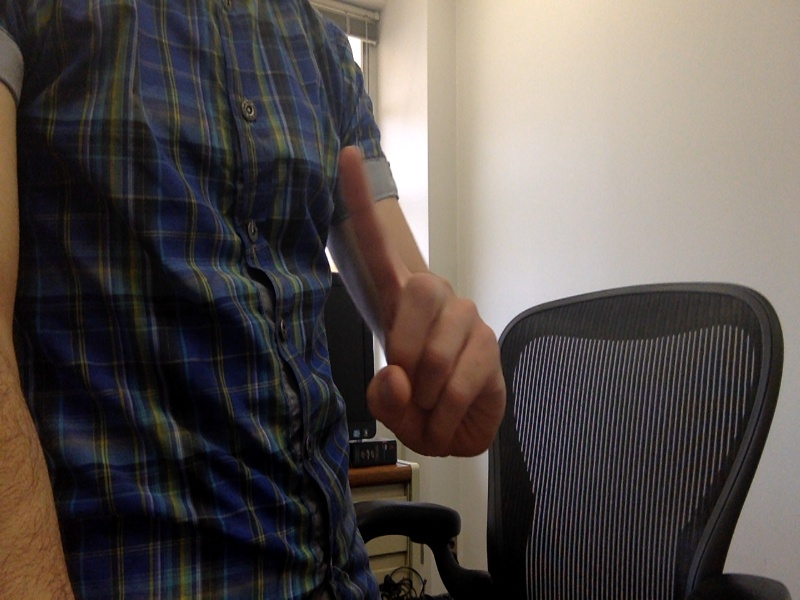1-hand: (336, 147, 504, 468)
